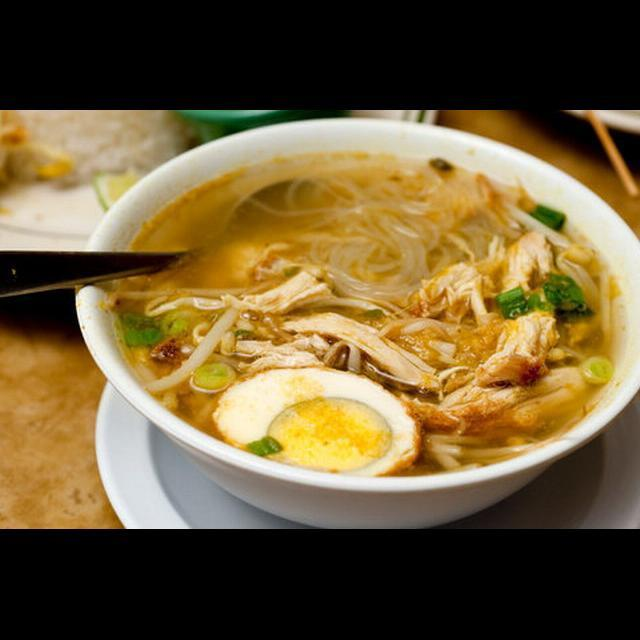Soto: (99, 148, 615, 478)
